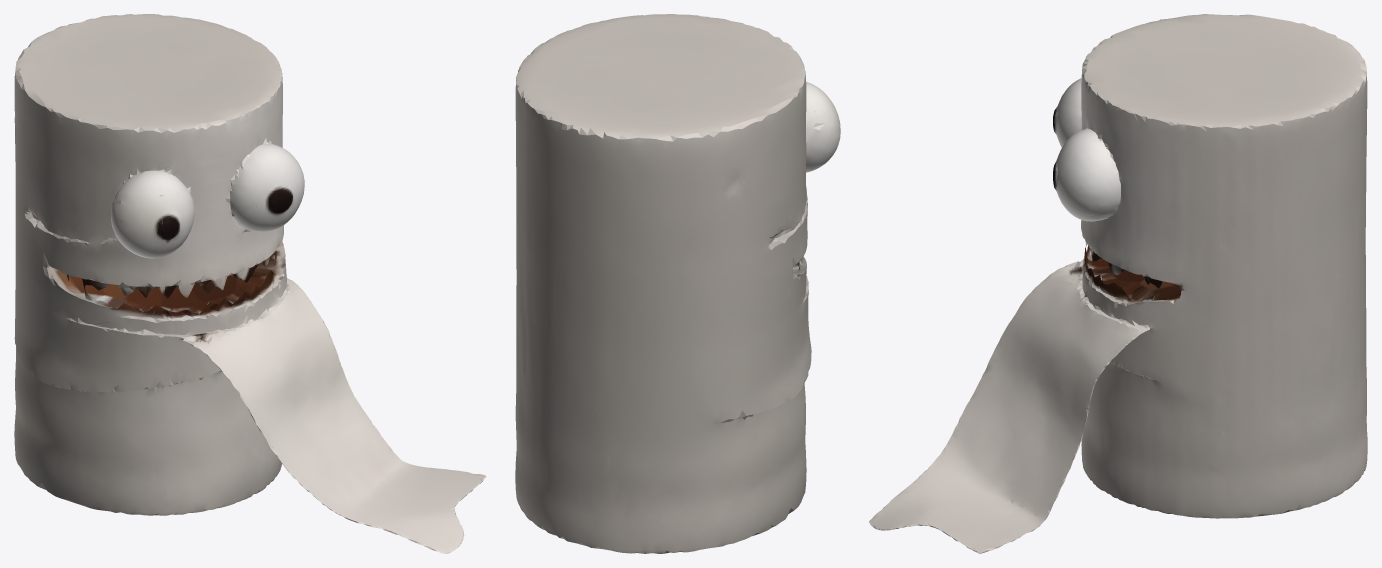
File: ToiletPaperMummy.glb
3 renders of one model, left to right at view 1: azimuth 30°, elevation 25°; view 2: azimuth 150°, elevation 25°; view 3: azimuth 270°, elevation 25°, orthographic. The views are drawn at different scales.
Parts seen in each view (by area): view 1: ToiletPaperMummy; view 2: ToiletPaperMummy; view 3: ToiletPaperMummy.
Part boxes in pixels (x1,y1,x2,y2): ToiletPaperMummy: [14, 14, 486, 553]; ToiletPaperMummy: [515, 14, 840, 553]; ToiletPaperMummy: [869, 14, 1367, 553].
Bounding box in the file's own units: 1.49 × 1.65 × 1.89.
1 material, 1 textured.
